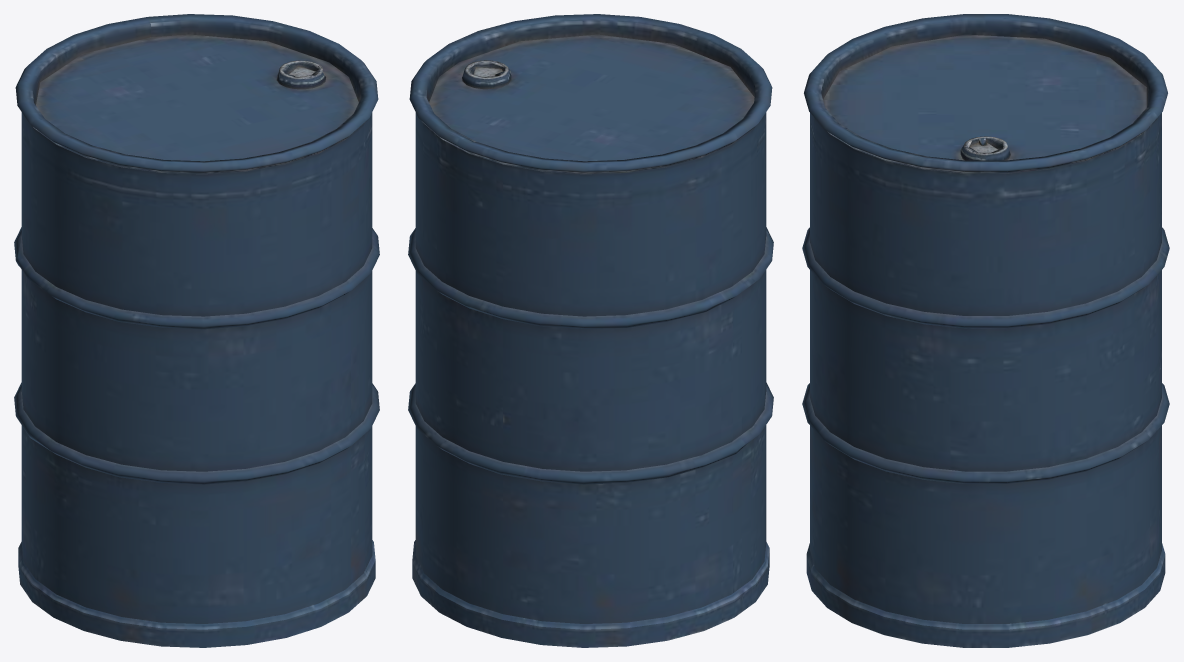
File: barrel_03.gltf
3 renders of one model, left to right at view 1: azimuth 30°, elevation 25°; view 2: azimuth 150°, elevation 25°; view 3: azimuth 270°, elevation 25°, orthographic.
Parts seen in each view (by area): view 1: barrel_03; view 2: barrel_03; view 3: barrel_03.
Boxes of the visible parts, <box> form: barrel_03: <box>14,14,379,647</box>; barrel_03: <box>408,14,773,647</box>; barrel_03: <box>802,14,1169,647</box>.
Size of the model in its own units: 0.6339 by 0.9276 by 0.6386.
1 material, 1 textured.
